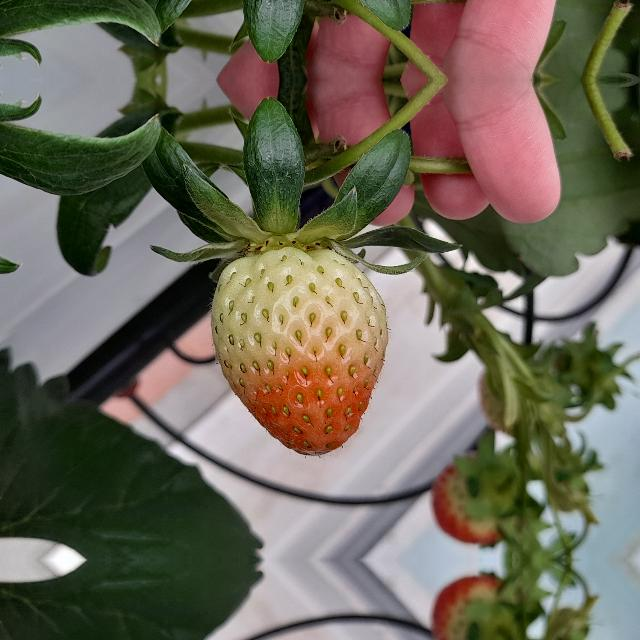Health_50: (210, 247, 388, 456)
